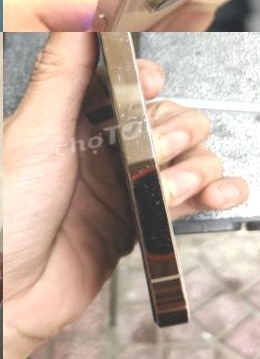scratch: (68, 32, 177, 229)
